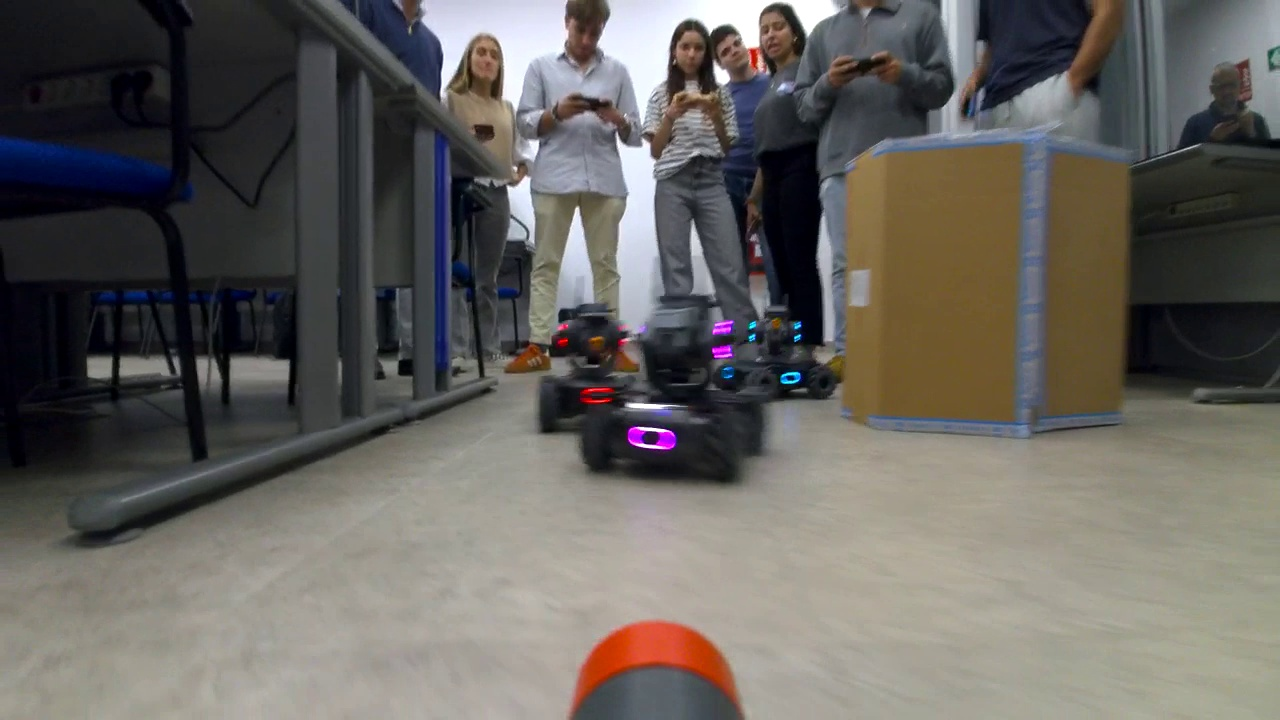robot: (580, 301, 756, 481), (541, 316, 647, 434), (728, 303, 830, 400)
